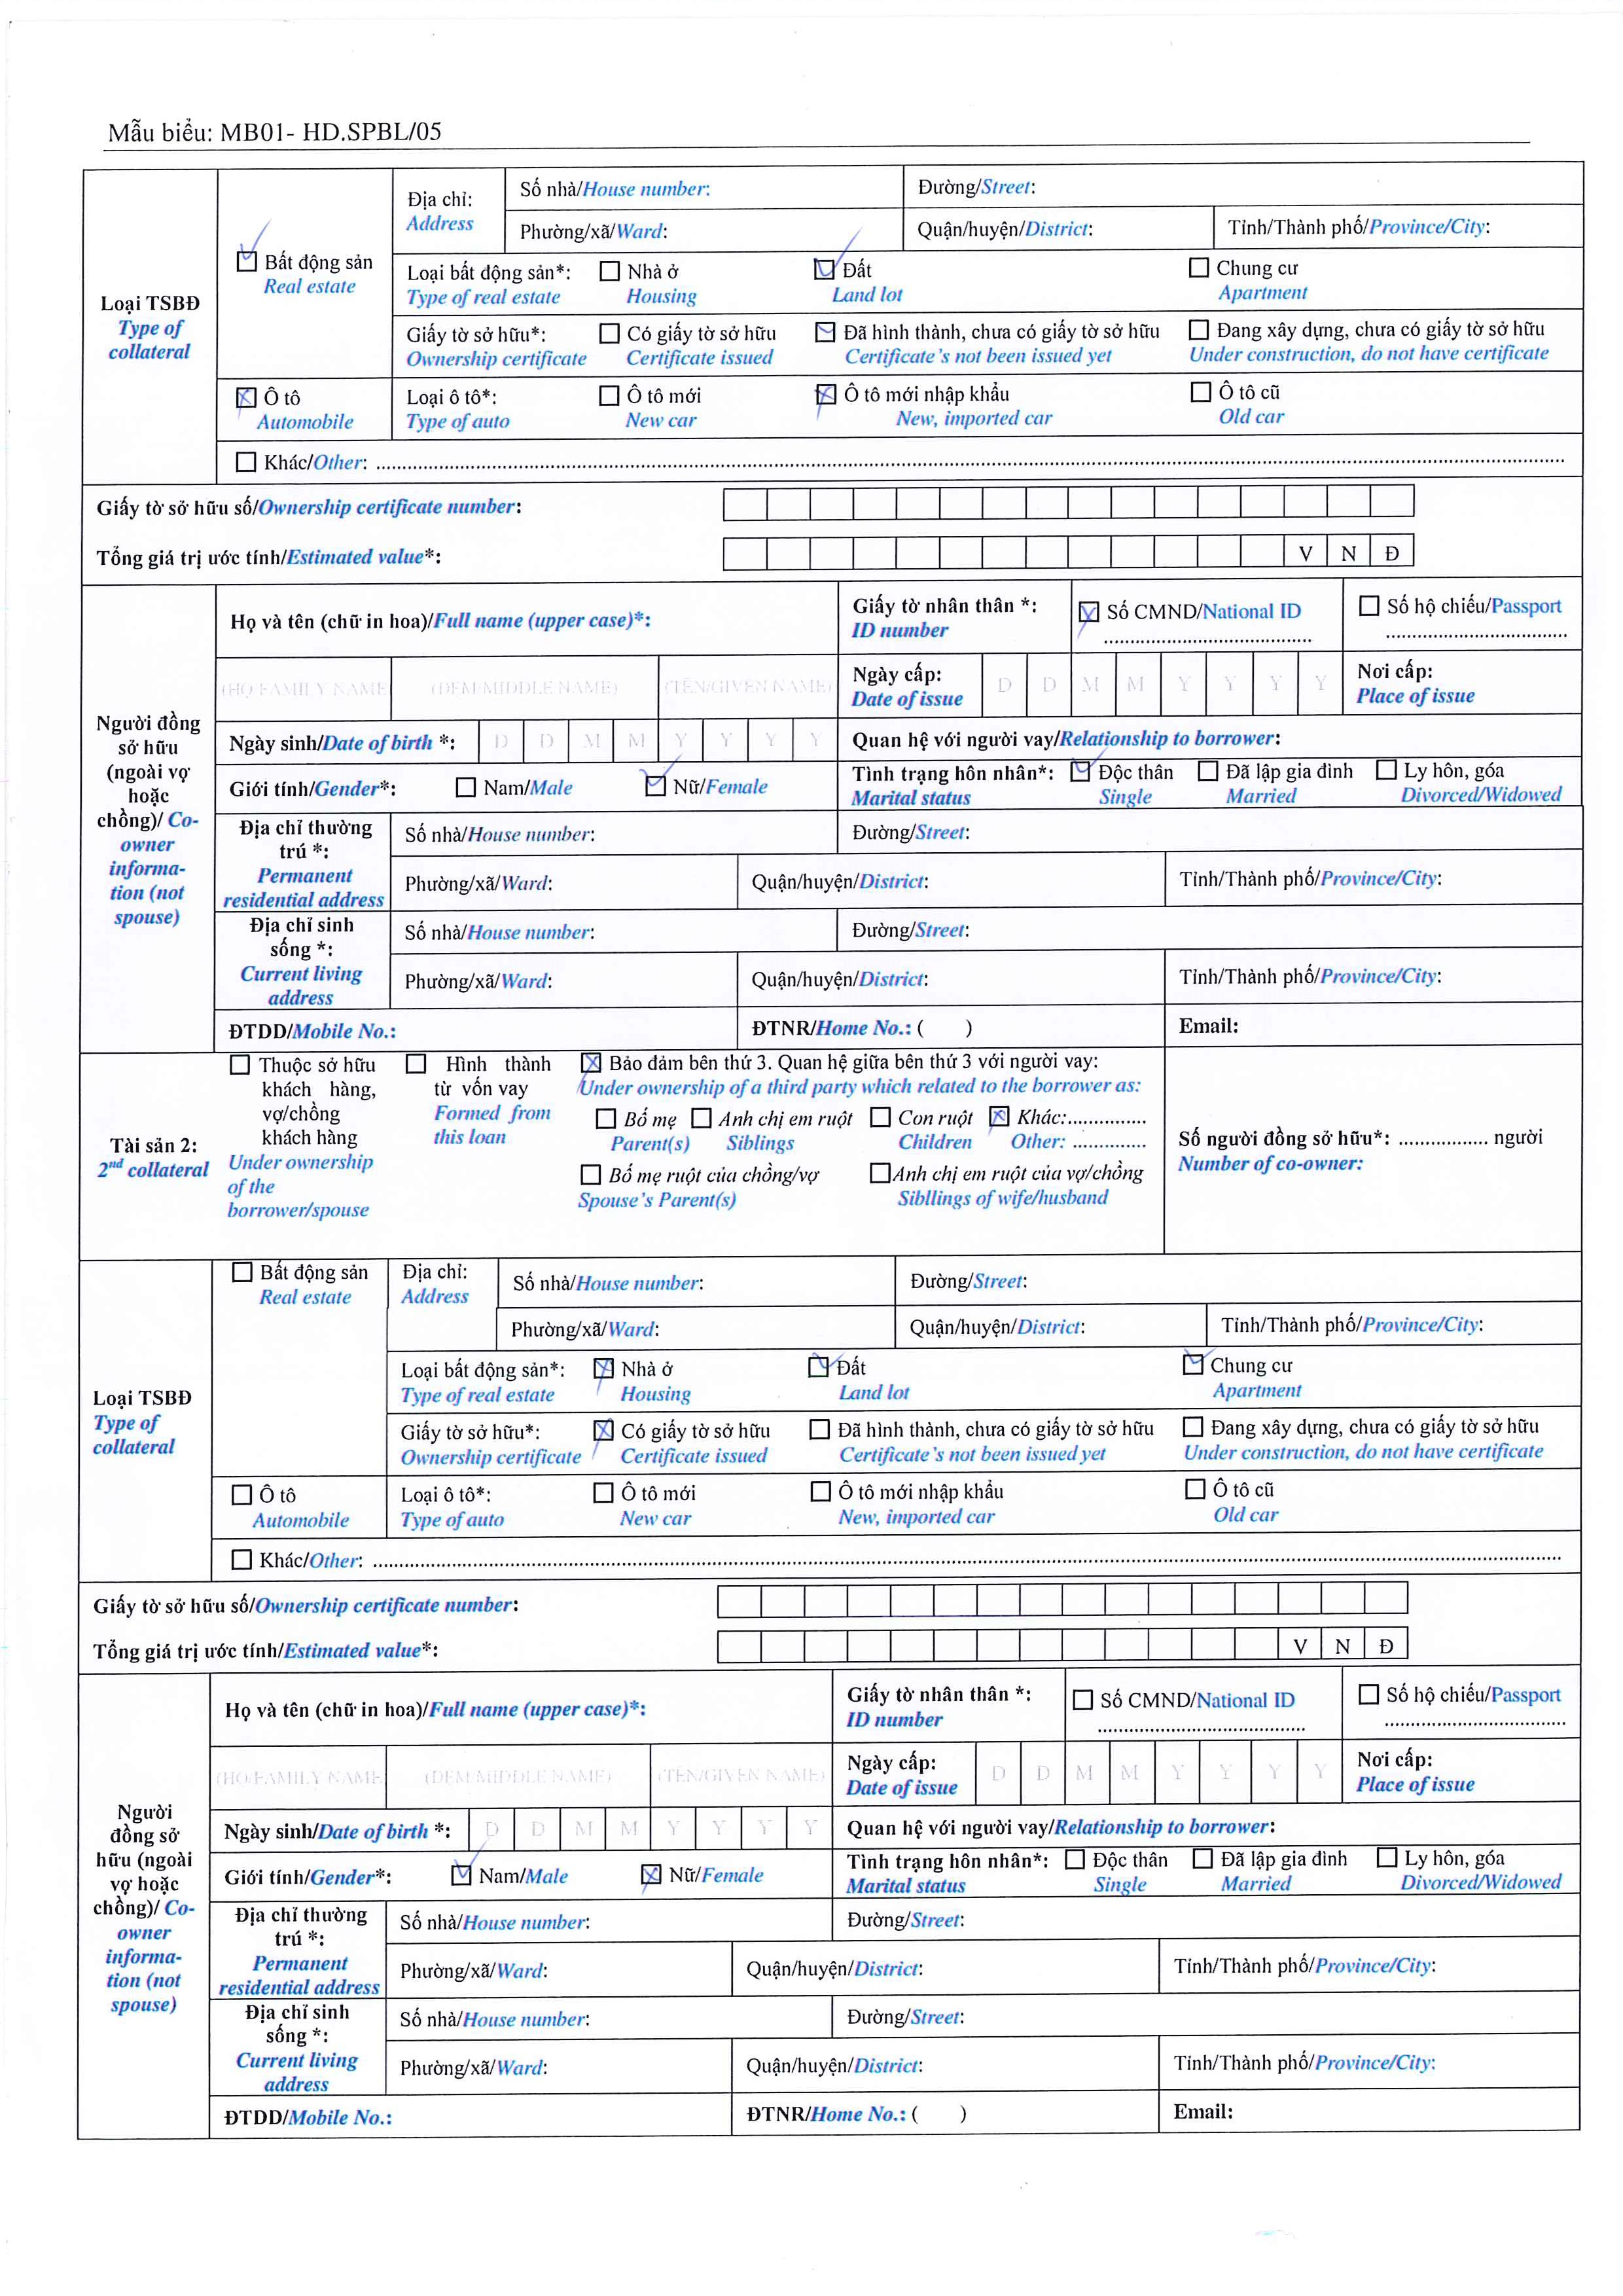box: (232, 242, 262, 278), (803, 1351, 834, 1383), (1184, 253, 1214, 285), (594, 381, 625, 411), (641, 771, 673, 801), (228, 1542, 258, 1574), (228, 1256, 256, 1289), (1180, 1472, 1208, 1505), (1370, 754, 1400, 783), (866, 1101, 896, 1131), (985, 1101, 1015, 1131), (228, 1481, 258, 1511), (592, 1414, 622, 1444), (1189, 1843, 1219, 1873), (813, 379, 841, 411), (578, 1158, 606, 1189), (1179, 1351, 1210, 1379), (1187, 378, 1215, 408), (227, 1051, 255, 1080), (576, 1049, 604, 1079), (689, 1101, 717, 1131), (804, 1416, 834, 1444), (587, 1479, 617, 1507), (638, 1860, 666, 1890), (811, 253, 838, 285), (1353, 592, 1384, 618), (866, 1158, 892, 1189), (595, 321, 624, 350), (811, 318, 840, 346), (1075, 597, 1103, 625), (451, 773, 480, 801), (590, 1103, 618, 1131), (1061, 1846, 1089, 1874), (234, 446, 260, 476), (1068, 757, 1094, 787), (1196, 755, 1223, 785), (590, 1354, 617, 1384), (1179, 1412, 1208, 1439), (808, 1476, 834, 1505), (1071, 1685, 1098, 1715), (1356, 1683, 1382, 1713), (1374, 1843, 1400, 1873), (232, 385, 260, 411), (597, 256, 624, 285), (1186, 316, 1214, 343), (400, 1052, 429, 1079), (446, 1862, 472, 1890)
